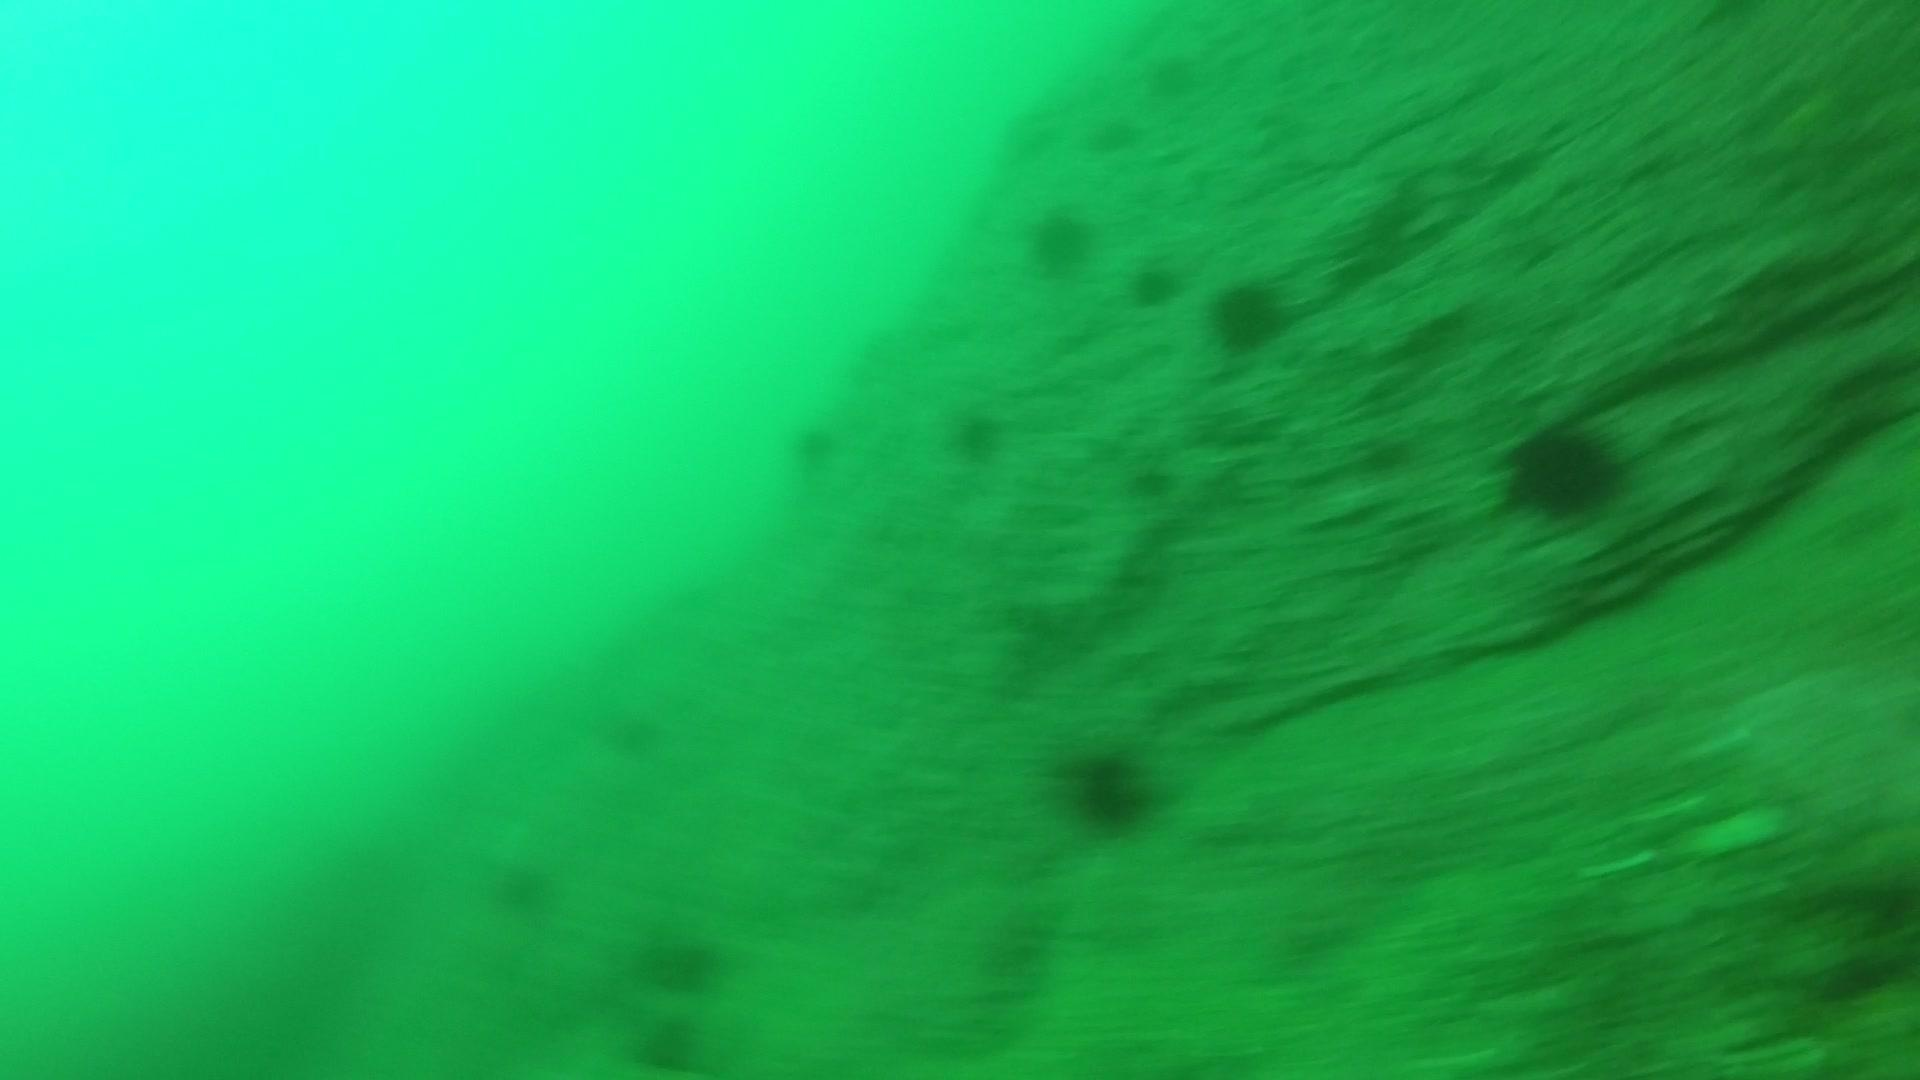echinus: (1495, 411, 1629, 524), (1052, 736, 1162, 836), (1203, 272, 1294, 357), (632, 918, 728, 996), (1021, 200, 1098, 277), (484, 851, 560, 919), (628, 1010, 707, 1073), (942, 400, 1011, 465), (783, 411, 847, 475), (592, 705, 655, 769), (1124, 253, 1185, 313), (1083, 109, 1143, 160), (1145, 49, 1204, 99)
